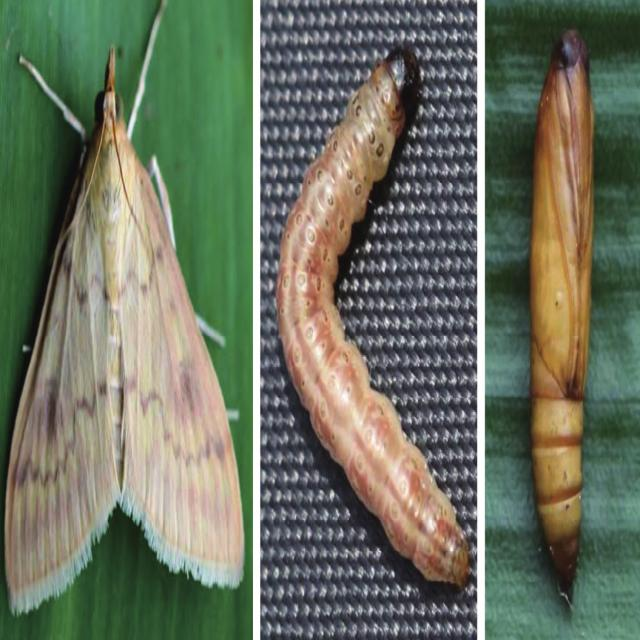cornborer-Adult-: (5, 30, 243, 622)
cornborer-Larva-: (271, 35, 475, 617)
